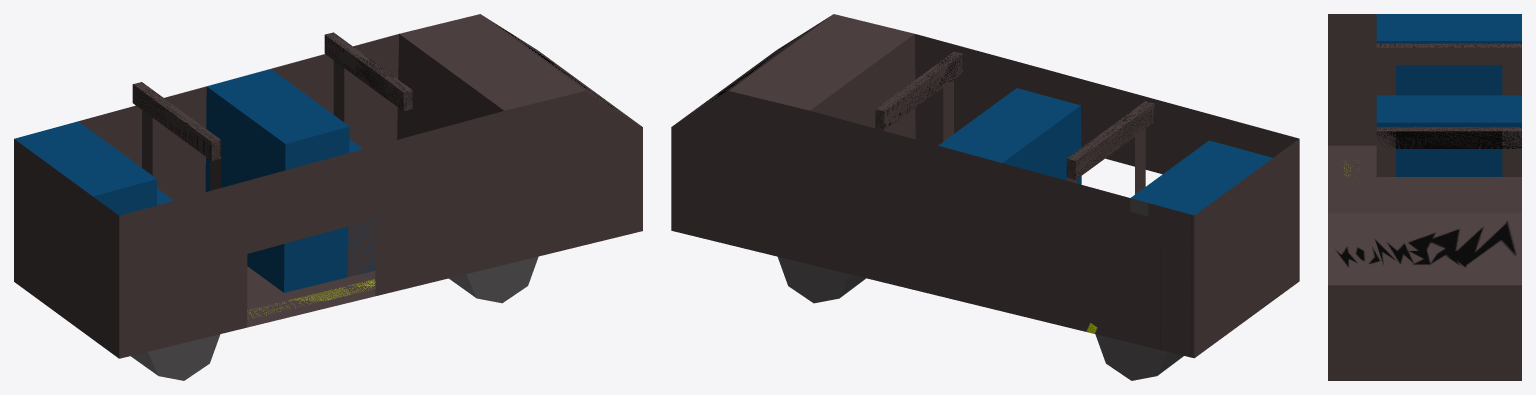
Rendered from model_intro_rolerCosterCart.fbx.
3 renders of one model, left to right at view 1: azimuth 30°, elevation 25°; view 2: azimuth 150°, elevation 25°; view 3: azimuth 270°, elevation 25°, orthographic. The views are drawn at different scales.
Visible parts, largest first — view 1: Plane_001; view 2: Plane_001; view 3: Plane_001.
Part boxes in pixels (x1,y1,x2,y2): Plane_001: (14,14,642,380); Plane_001: (671,14,1299,380); Plane_001: (1328,14,1521,380).
Bounding box in the file's own units: 5.75 × 2.2 × 2.
